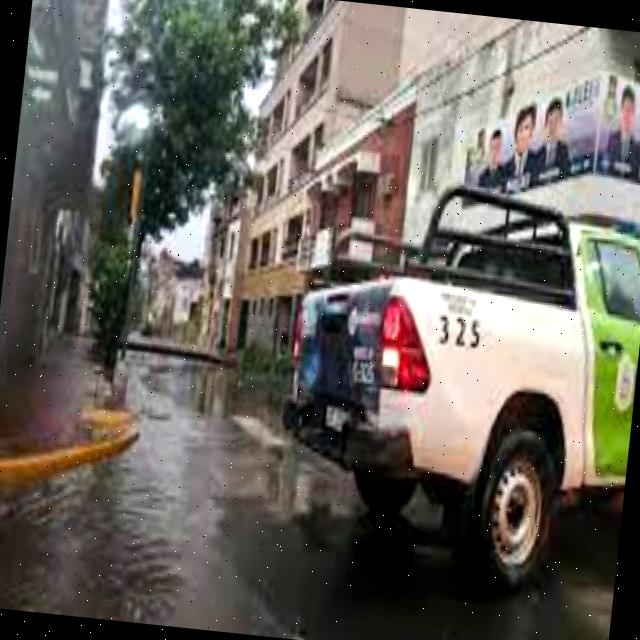Broken Pole: (94, 335, 239, 369)
